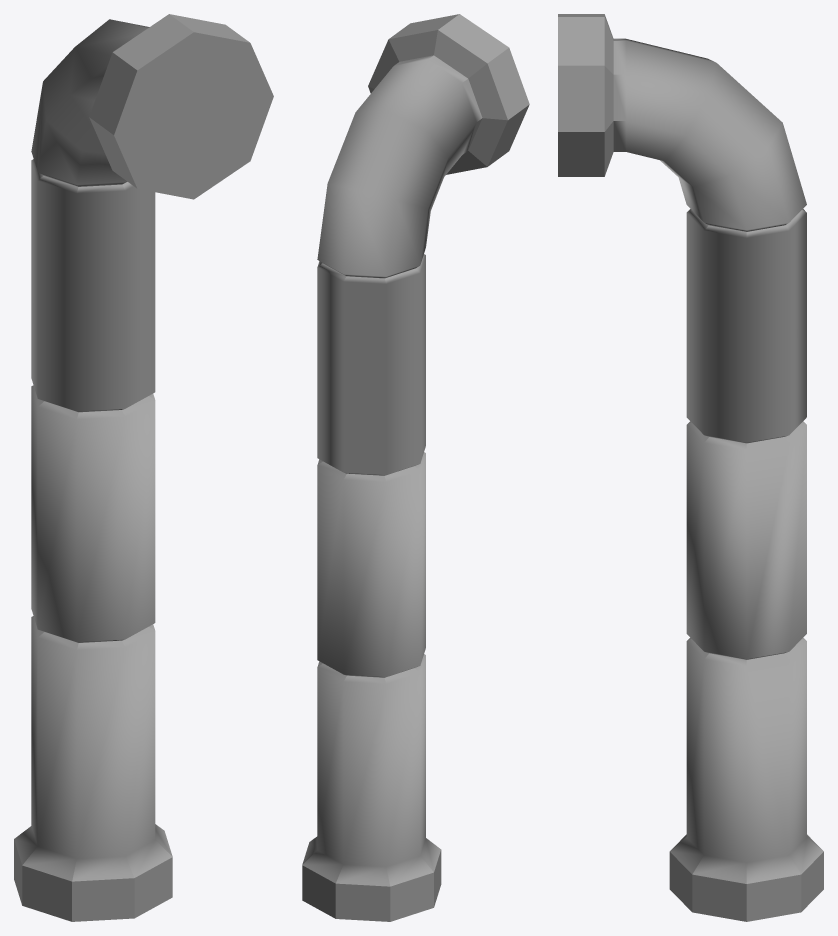
Rendered from Hangar_VerticalPipe_01.fbx.
The picture shows the model from 3 angles, left to right: view 1: azimuth 30°, elevation 25°; view 2: azimuth 150°, elevation 25°; view 3: azimuth 270°, elevation 25°; orthographic projection. The views are drawn at different scales.
Visible parts, largest first — view 1: VerticalPipe_01; view 2: VerticalPipe_01; view 3: VerticalPipe_01.
Boxes of the visible parts, x1,y1,x2,y2 form: VerticalPipe_01: [14, 14, 273, 921]; VerticalPipe_01: [302, 14, 529, 921]; VerticalPipe_01: [558, 14, 823, 921].
Size of the model in its own units: 51 by 283 by 78.22.
